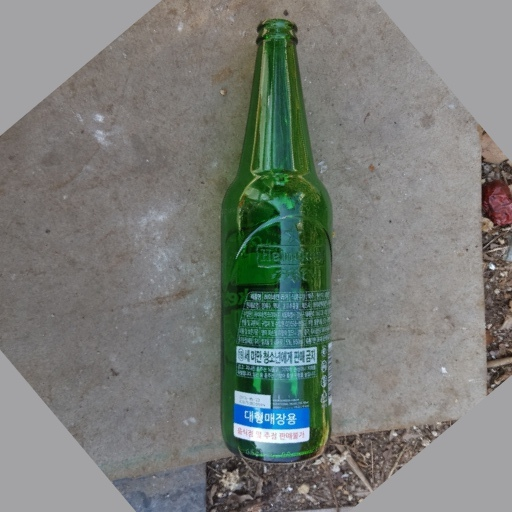Glass_1: (217, 18, 337, 466)
